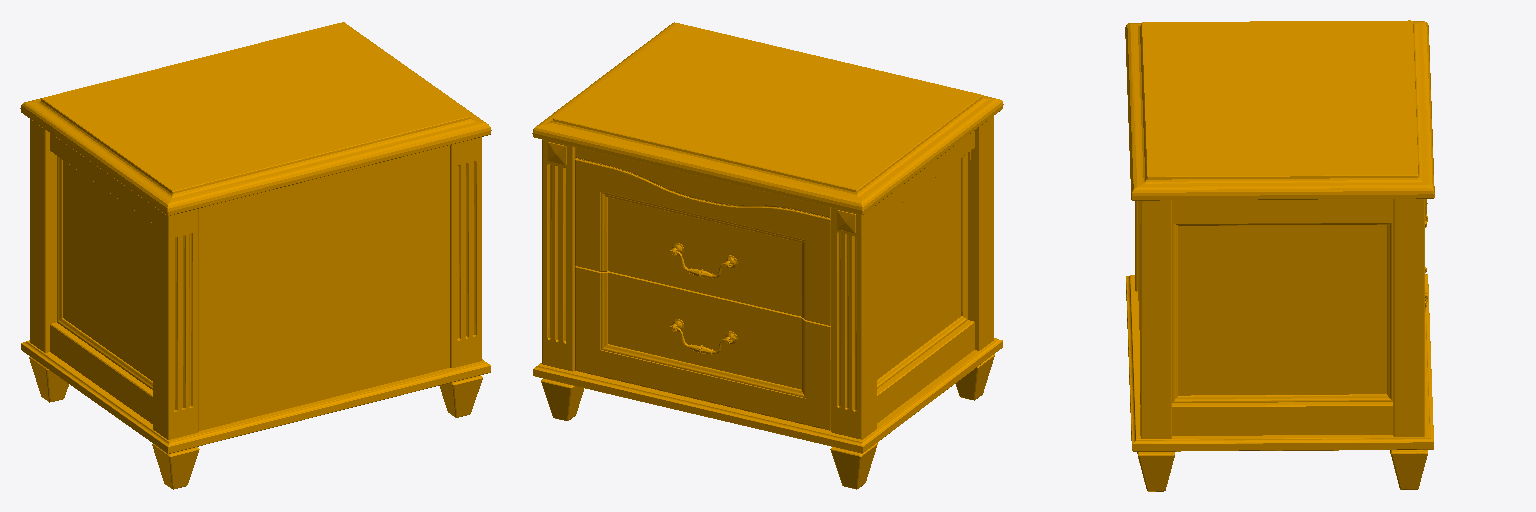
robot.urdf — object:
<?xml version="0.0"?>
	<robot name="object">
		<link name="object">
			<visual>
				<origin xyz="0 0 0"/>
				<geometry>
					<mesh filename="./geom/mesh.obj"/>
				</geometry>
			</visual>
			<inertial>
				<mass value="10.000"/>
			</inertial>
			<collision>
				<origin xyz="0 0 0"/>
				<geometry>
					<mesh filename="./geom/mesh.obj"/>
				</geometry>
			</collision>
		</link>

	</robot>

--- Render facts (derived) ---
3 views of the same robot in one strip: view 1: azimuth 30°, elevation 25°; view 2: azimuth 150°, elevation 25°; view 3: azimuth 270°, elevation 25° (orthographic).
Robot: object — 1 links, 0 joints (none); root link object; default pose: every joint at zero.
Links seen in each view (by area): view 1: object; view 2: object; view 3: object.
Link boxes in pixels (box(x1,y1,x2,y2)): object: box(20, 22, 491, 489); object: box(532, 22, 1003, 489); object: box(1125, 20, 1434, 491).
Size in the robot's own frame: 0.6372 by 0.4895 by 0.55 metres.
1 mesh visuals loaded from 1 distinct referenced files (1 OBJ).
